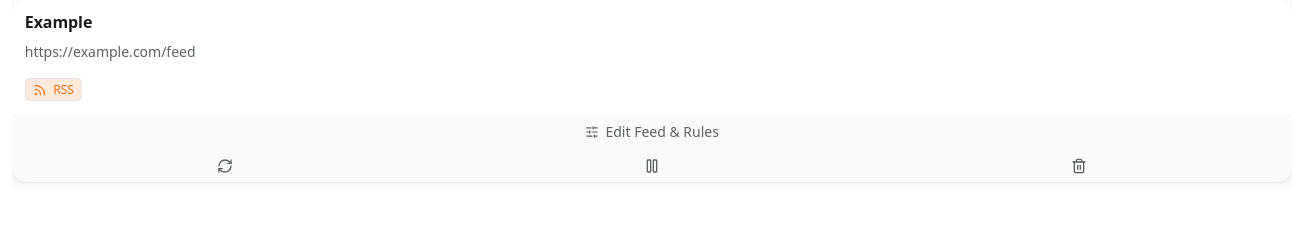
Test: FeedCard parse — the refusal notice is announced (RAD-406) › keeps one live region mounted and fills it, rather than inserting a region with text
Click the button named "Run parsing" at (225, 166), box [12,150,439,182]
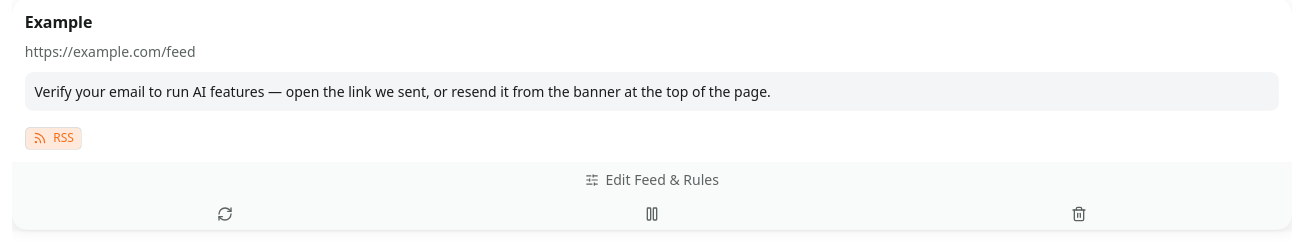
Expected: the message shows "Verify your email", [34,82,771,101]
